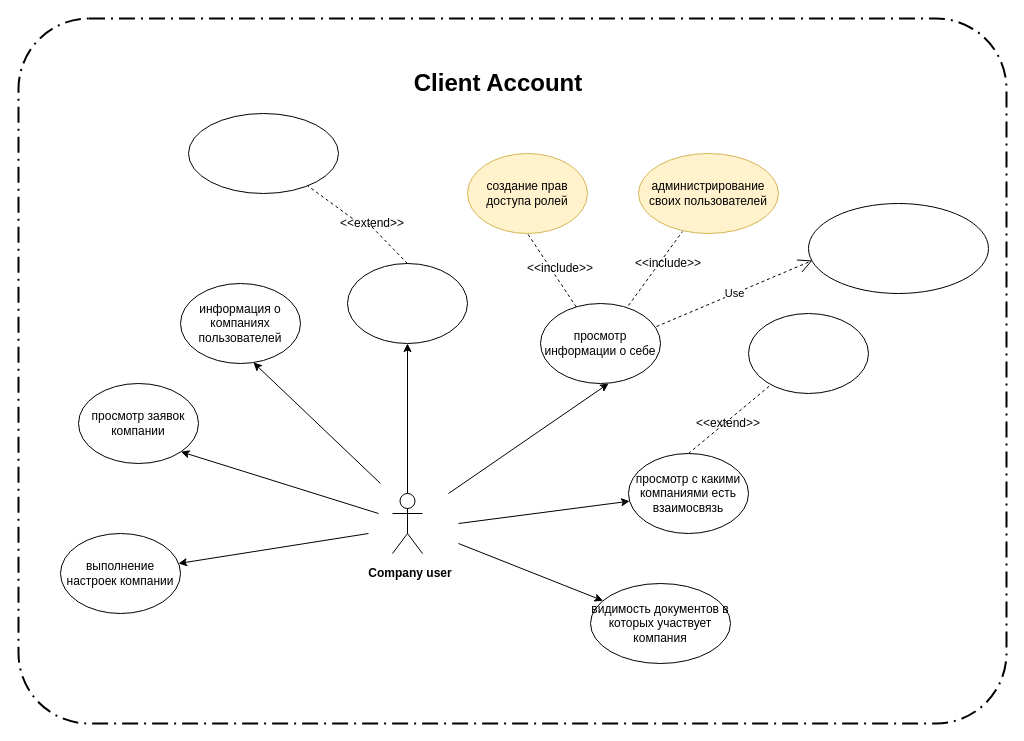
Some shapes in this 1024 by 741 pixel diagram are drawn without their labels. The shapes that lost their labels are listed below. From the top down, each one's box as (x1, y1, x2, y2) in pixels, then its label:
(188, 112, 338, 194): надстройка взаимоотношений управления между компаниями и их видимостями
(808, 202, 988, 294): через модуль Security просматривает информацию о всех своих пользователях
(346, 262, 468, 344): доступ к истории взаимоотношений с контрагентами
(748, 312, 868, 394): просмотр результатов взаимодействия
